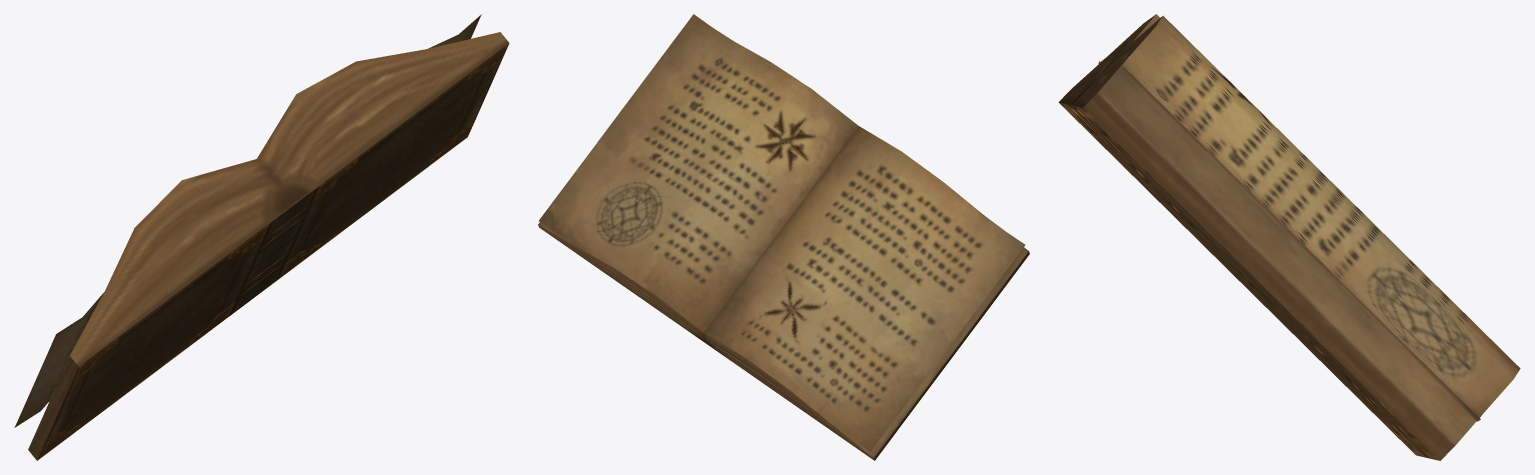
The model's file is Book_06 (1).fbx.
The picture shows the model from 3 angles, left to right: view 1: azimuth 30°, elevation 25°; view 2: azimuth 150°, elevation 25°; view 3: azimuth 270°, elevation 25°; orthographic projection. The views are drawn at different scales.
Parts seen in each view (by area): view 1: Book_06 (1); view 2: Book_06 (1); view 3: Book_06 (1).
Part boxes in pixels (<box>): Book_06 (1): <box>14,14,509,460</box>; Book_06 (1): <box>538,14,1029,460</box>; Book_06 (1): <box>1058,14,1520,460</box>.
Size of the model in its own units: 56.41 by 44.49 by 29.6.
